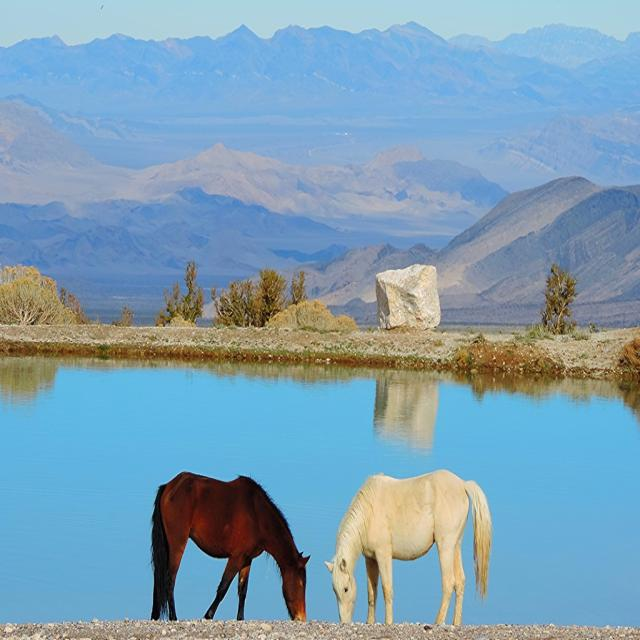Horse: (322, 469, 493, 630), (149, 470, 310, 625)
